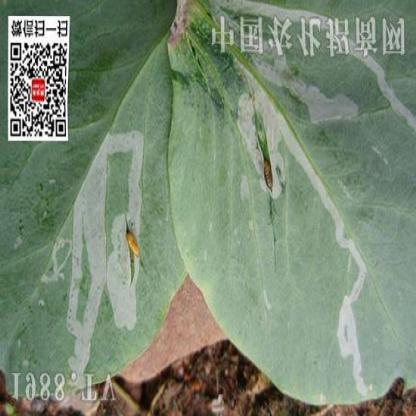whorl-maggot: (121, 224, 144, 265), (260, 155, 278, 192)
